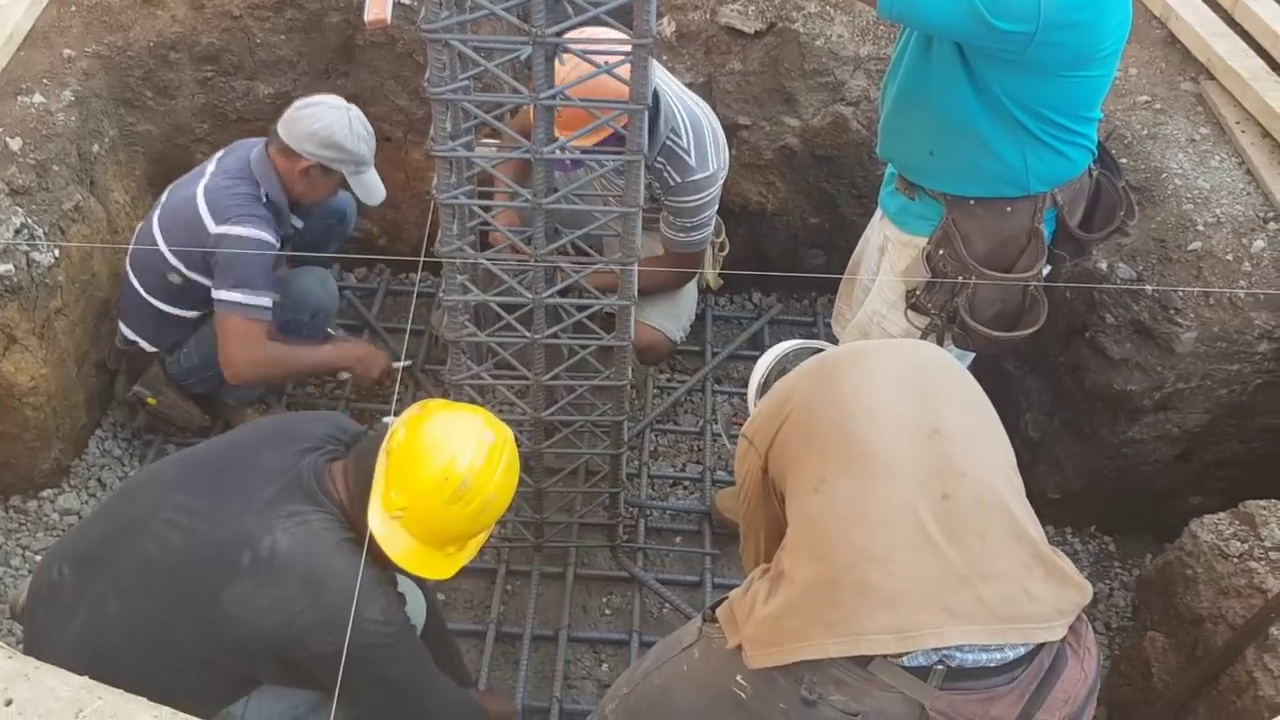helmet: (372, 398, 520, 584), (532, 28, 637, 147)
helmet-off: (267, 93, 384, 214)
helmet-on: (316, 401, 525, 603), (532, 26, 667, 166), (748, 336, 834, 413)
person: (579, 334, 1111, 720), (22, 396, 525, 720), (825, 0, 1138, 349), (102, 86, 394, 411), (491, 0, 730, 369)
